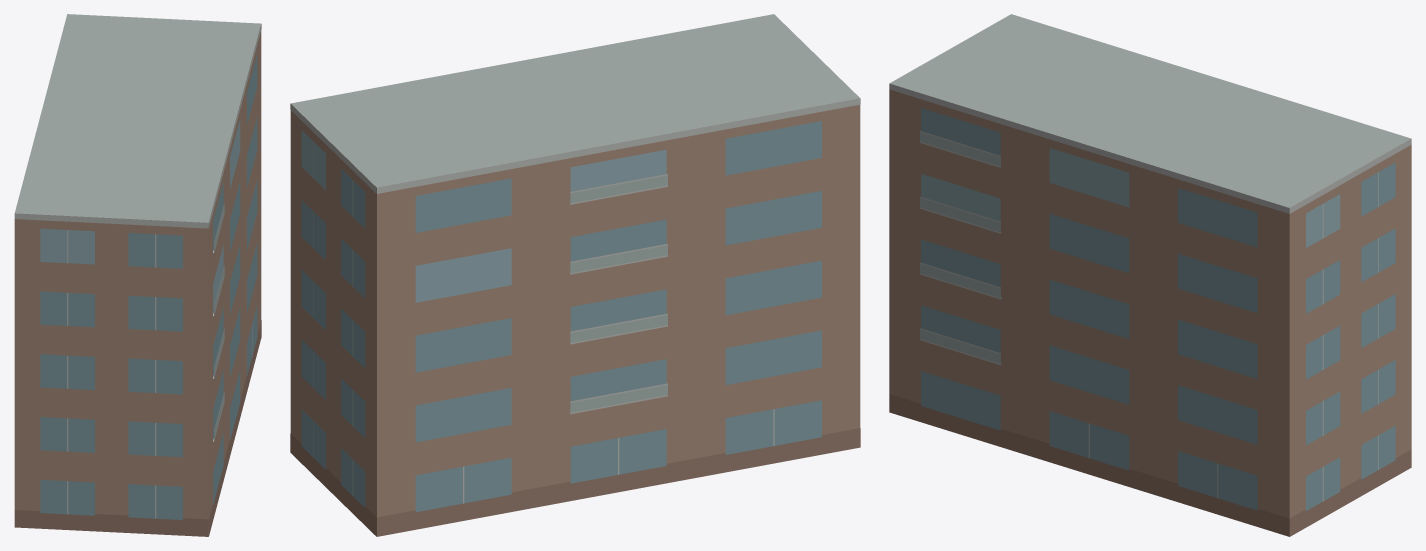
The model's file is survey-upis-32631751.glb.
The picture shows the model from 3 angles, left to right: view 1: azimuth 30°, elevation 25°; view 2: azimuth 150°, elevation 25°; view 3: azimuth 270°, elevation 25°; orthographic projection. The views are drawn at different scales.
Parts seen in each view (by area): view 1: survey-upis-32631751.tmp; view 2: survey-upis-32631751.tmp; view 3: survey-upis-32631751.tmp.
Part boxes in pixels (bbox=[...]): survey-upis-32631751.tmp: bbox=[14, 14, 261, 536]; survey-upis-32631751.tmp: bbox=[290, 14, 860, 536]; survey-upis-32631751.tmp: bbox=[889, 14, 1411, 536].
Bounding box in the file's own units: 17.15 × 13.55 × 19.52.
